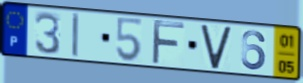3: (33, 10, 62, 57)
5: (115, 16, 144, 64)
6: (240, 29, 267, 71)
F: (150, 18, 187, 66)
I: (70, 12, 81, 59)
V: (199, 24, 234, 71)
